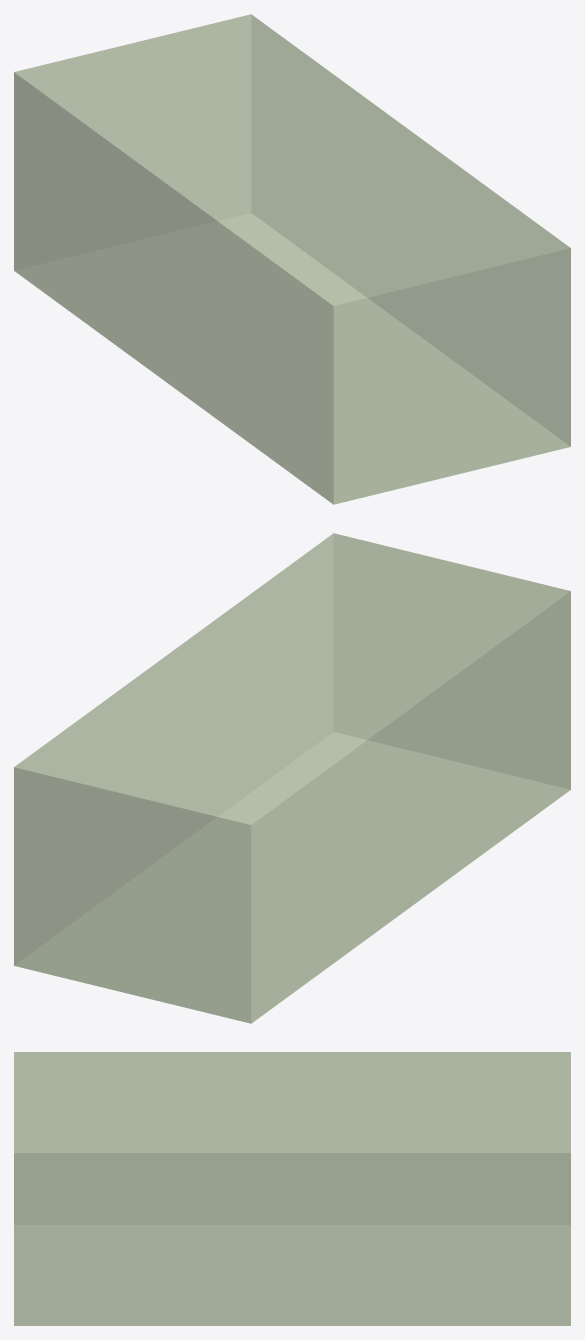
Rendered from blockout.glb.
3 renders of one model, top to bottom at view 1: azimuth 30°, elevation 25°; view 2: azimuth 150°, elevation 25°; view 3: azimuth 270°, elevation 25°, orthographic. The views are drawn at different scales.
Visible parts, largest first — view 1: U10_ENVELOPE_NOT_FINAL_MESH; view 2: U10_ENVELOPE_NOT_FINAL_MESH; view 3: U10_ENVELOPE_NOT_FINAL_MESH.
Part boxes in pixels (bbox=[...]): U10_ENVELOPE_NOT_FINAL_MESH: bbox=[14, 14, 570, 504]; U10_ENVELOPE_NOT_FINAL_MESH: bbox=[14, 533, 570, 1023]; U10_ENVELOPE_NOT_FINAL_MESH: bbox=[14, 1052, 570, 1325].
Size of the model in its own units: 3 by 2.4 by 7.
